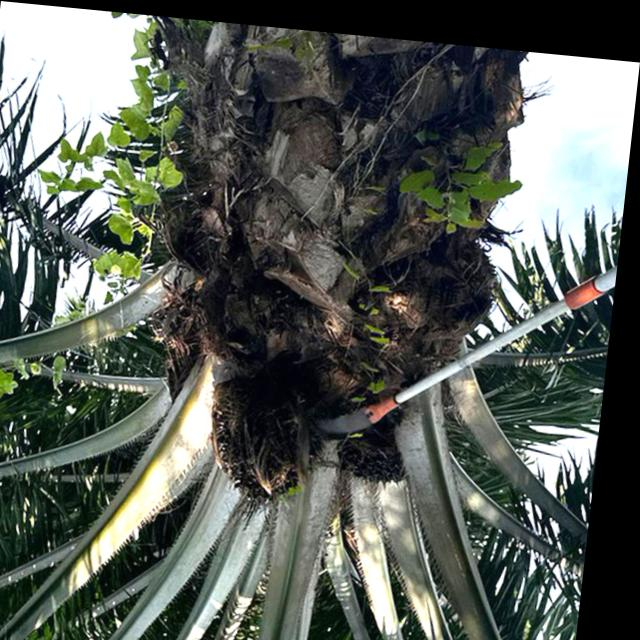unripe: (200, 352, 338, 512)
